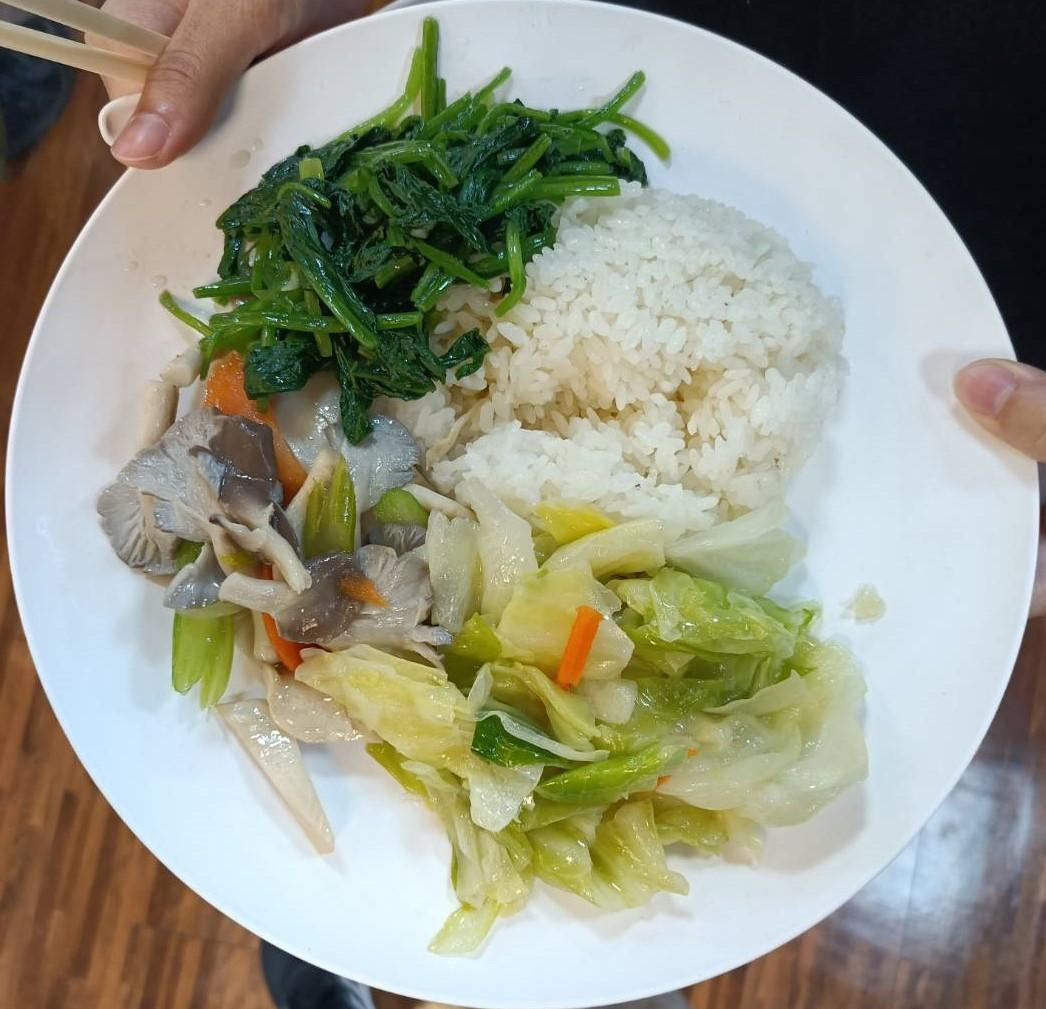big fried chicken leg: (8, 10, 1046, 1009)
big herbal chicken leg: (422, 195, 845, 521)
braised fish fillet: (334, 513, 876, 951), (202, 38, 640, 414), (116, 350, 436, 653)
